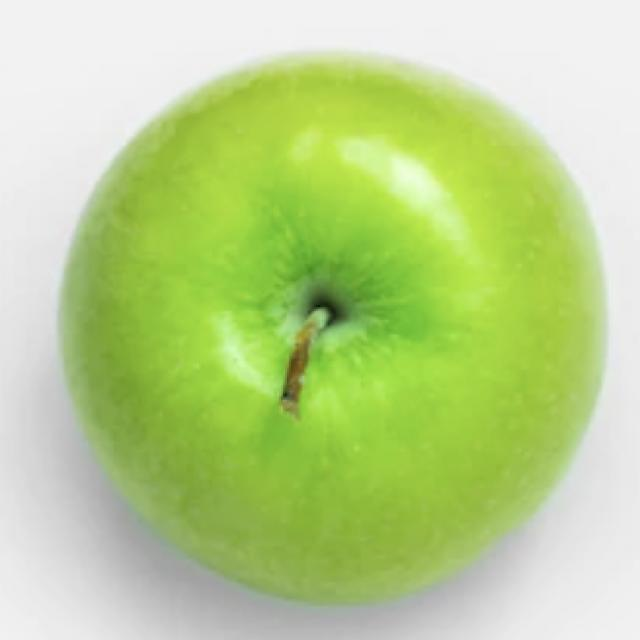Fresh Apple: (98, 63, 585, 640)
